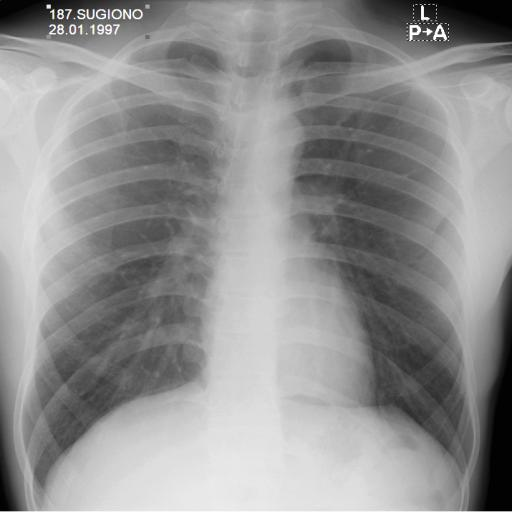normal: (13, 18, 493, 504)
